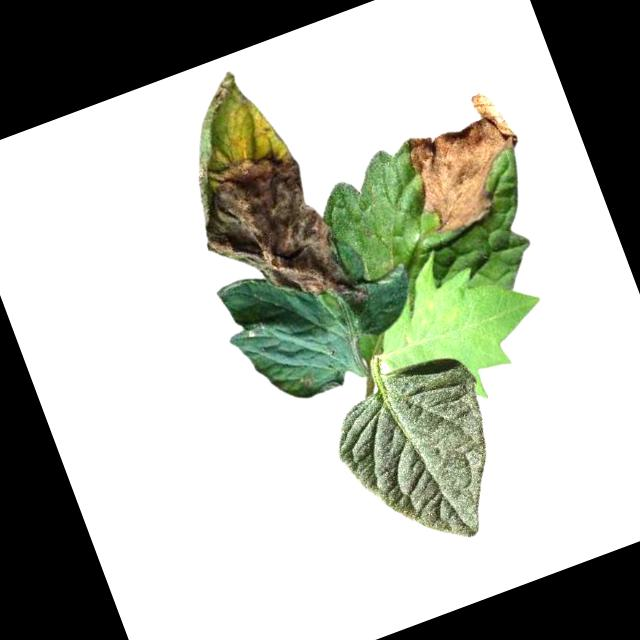Late_blight: (151, 52, 369, 352), (389, 85, 540, 238), (439, 303, 462, 327), (395, 326, 418, 348)
healthy: (317, 344, 527, 571)
